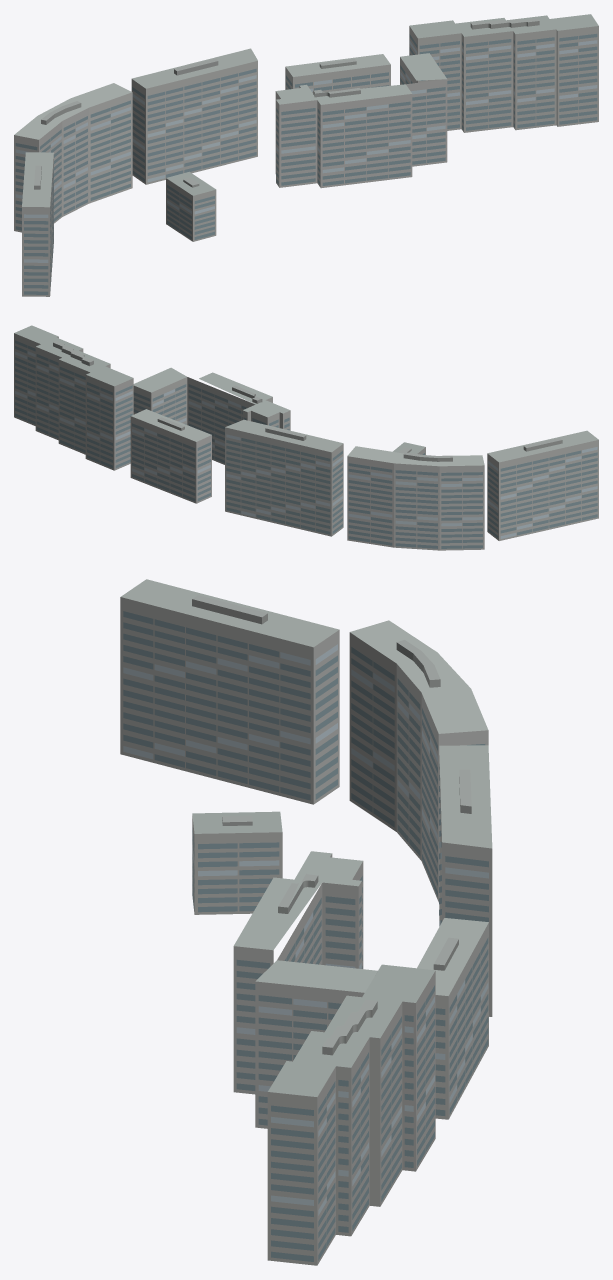
The model's file is apt-a13681304.glb.
3 views of the same model, one above another, from view 1: azimuth 30°, elevation 25°; view 2: azimuth 150°, elevation 25°; view 3: azimuth 270°, elevation 25° (orthographic). The views are drawn at different scales.
Parts seen in each view (by area): view 1: apt-a13681304; view 2: apt-a13681304; view 3: apt-a13681304.
Part boxes in pixels (x1,y1,x2,y2): apt-a13681304: (14,14,598,296); apt-a13681304: (14,325,598,550); apt-a13681304: (120,579,492,1265).
Size of the model in its own units: 308 by 47.81 by 91.49.
